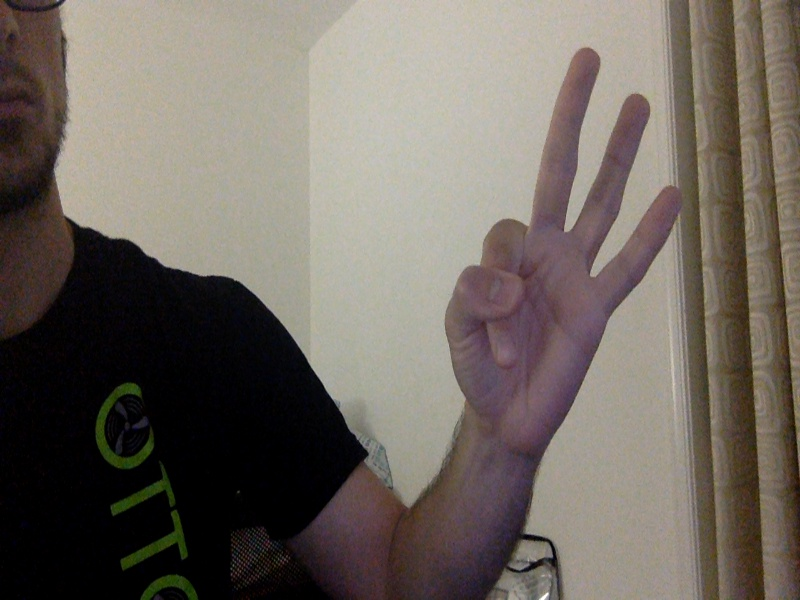3-hand: (447, 46, 685, 444)
